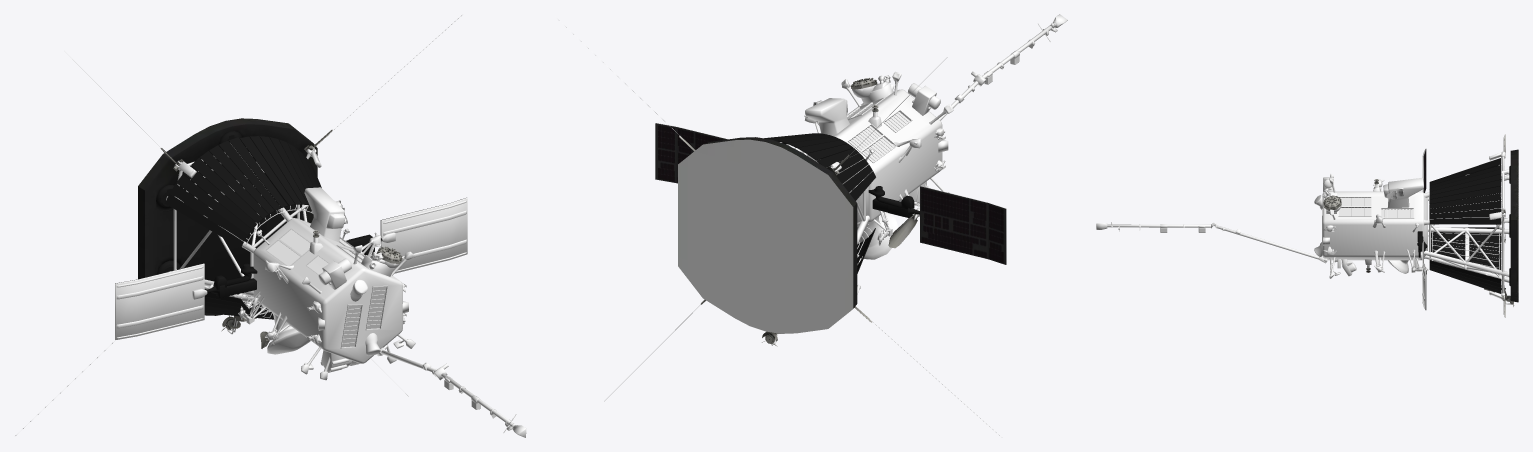
The model's file is parker-solar-probe.glb.
The picture shows the model from 3 angles, left to right: view 1: azimuth 30°, elevation 25°; view 2: azimuth 150°, elevation 25°; view 3: azimuth 270°, elevation 25°; orthographic projection. The views are drawn at different scales.
Visible parts, largest first — view 1: Cylinder.008, Cylinder.053, CoolingSystem, solarWing_LeftBacking, solarWing_RightBacking, vents, Cylinder.128, Cube.025, heatShield_Mounting, HGA; view 2: Cylinder.053, Cylinder.008, CoolingSystem, vents, Cube.025, Cylinder.128; view 3: Cylinder.008, CoolingSystem, Cylinder.053, vents, Cube.025, CoolingSystem_frame.
Part boxes in pixels (x1,y1,x2,y2): Cylinder.008: [166, 143, 415, 380]; Cylinder.053: [115, 118, 466, 348]; CoolingSystem: [165, 136, 321, 319]; solarWing_LeftBacking: [115, 263, 204, 339]; solarWing_RightBacking: [381, 198, 467, 273]; vents: [265, 228, 387, 348]; Cylinder.128: [192, 232, 395, 299]; Cube.025: [377, 345, 526, 437]; heatShield_Mounting: [156, 131, 242, 294]; HGA: [267, 331, 310, 354]; Cylinder.053: [655, 78, 1006, 346]; Cylinder.008: [788, 72, 953, 294]; CoolingSystem: [764, 133, 875, 273]; vents: [847, 97, 912, 162]; Cube.025: [939, 14, 1067, 120]; Cylinder.128: [868, 186, 919, 217]; Cylinder.008: [1314, 151, 1509, 300]; CoolingSystem: [1429, 158, 1501, 293]; Cylinder.053: [1323, 134, 1518, 317]; vents: [1322, 196, 1414, 242]; Cube.025: [1096, 222, 1327, 263]; CoolingSystem_frame: [1429, 165, 1511, 304].
Bounding box in the file's own units: 5.75 × 5.26 × 6.61.
7 materials, 2 textured.
